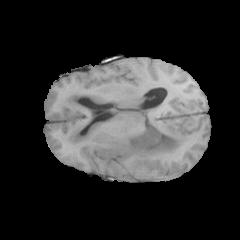glioma: (60, 90, 187, 163)
